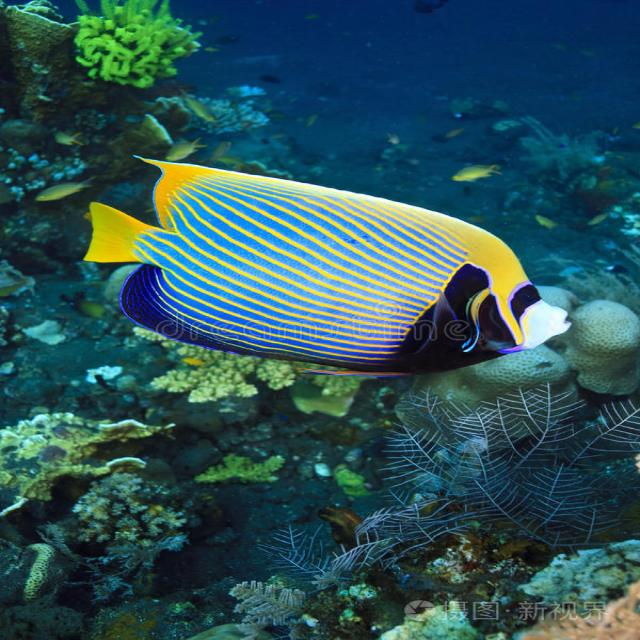AngelFish: (71, 149, 576, 371)
